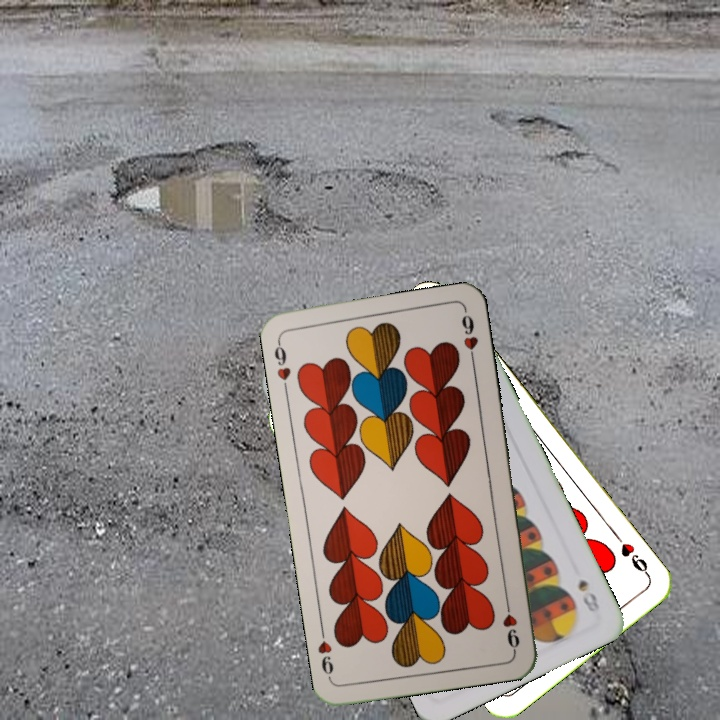H9: (610, 530, 653, 579), (498, 594, 522, 653), (270, 335, 294, 394)
S8: (574, 575, 603, 615)
